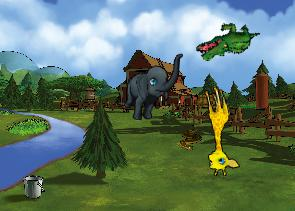crocodile: (193, 9, 261, 75)
elephant: (123, 50, 183, 123)
giraffe: (192, 84, 241, 178)
